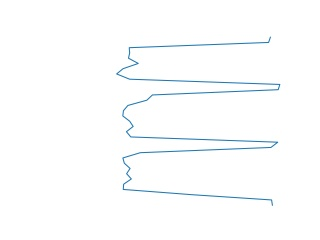majorRiverChannelBar: (115, 38, 283, 207)
